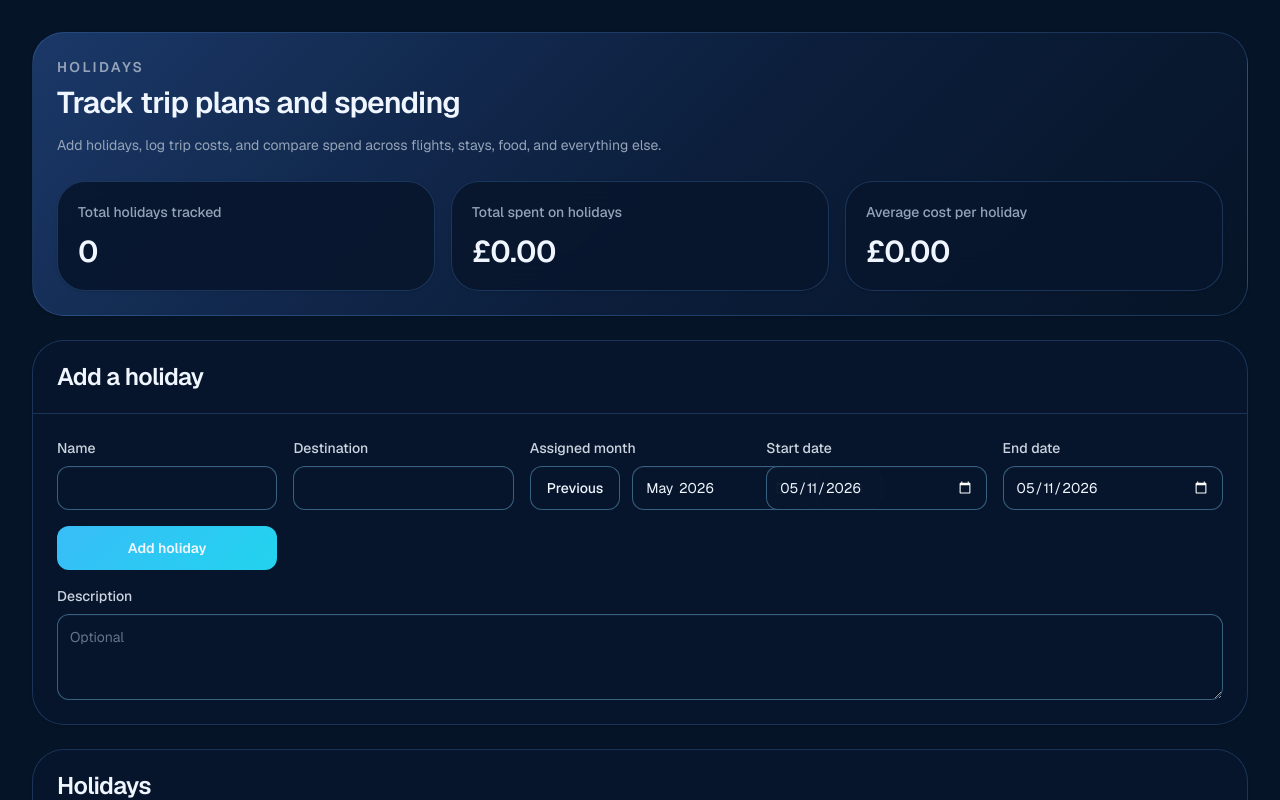
Test: [Component] holidays page › should create a holiday and append it to the list when the form is valid
Step 1. Type " Rome Escape " into the field labelled "Name" → [167, 488], box [57,466,277,510]
Step 2. Type " Rome " into the field labelled "Destination" → [404, 488], box [293,466,514,510]
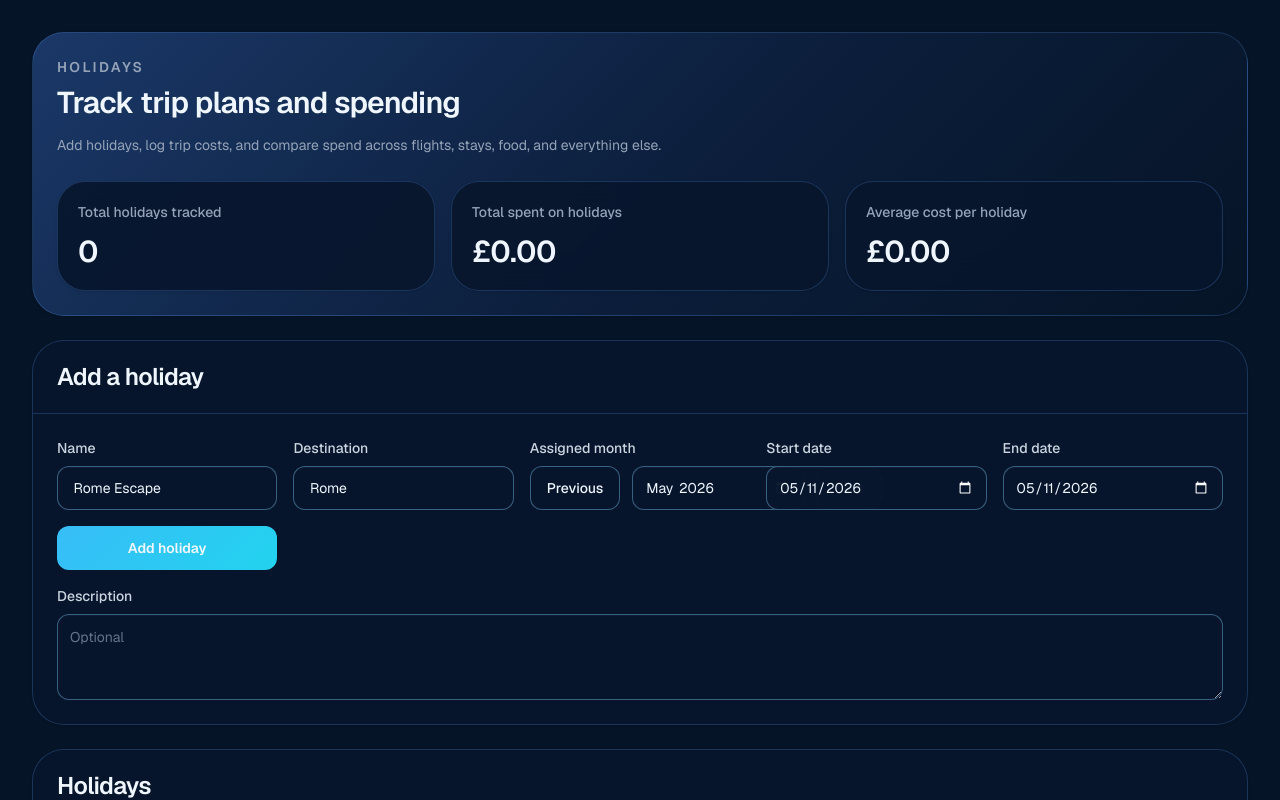
Step 3. Replace the text in the field labelled "Assigned month" with "2026-04" → [718, 488], box [632,466,804,510]
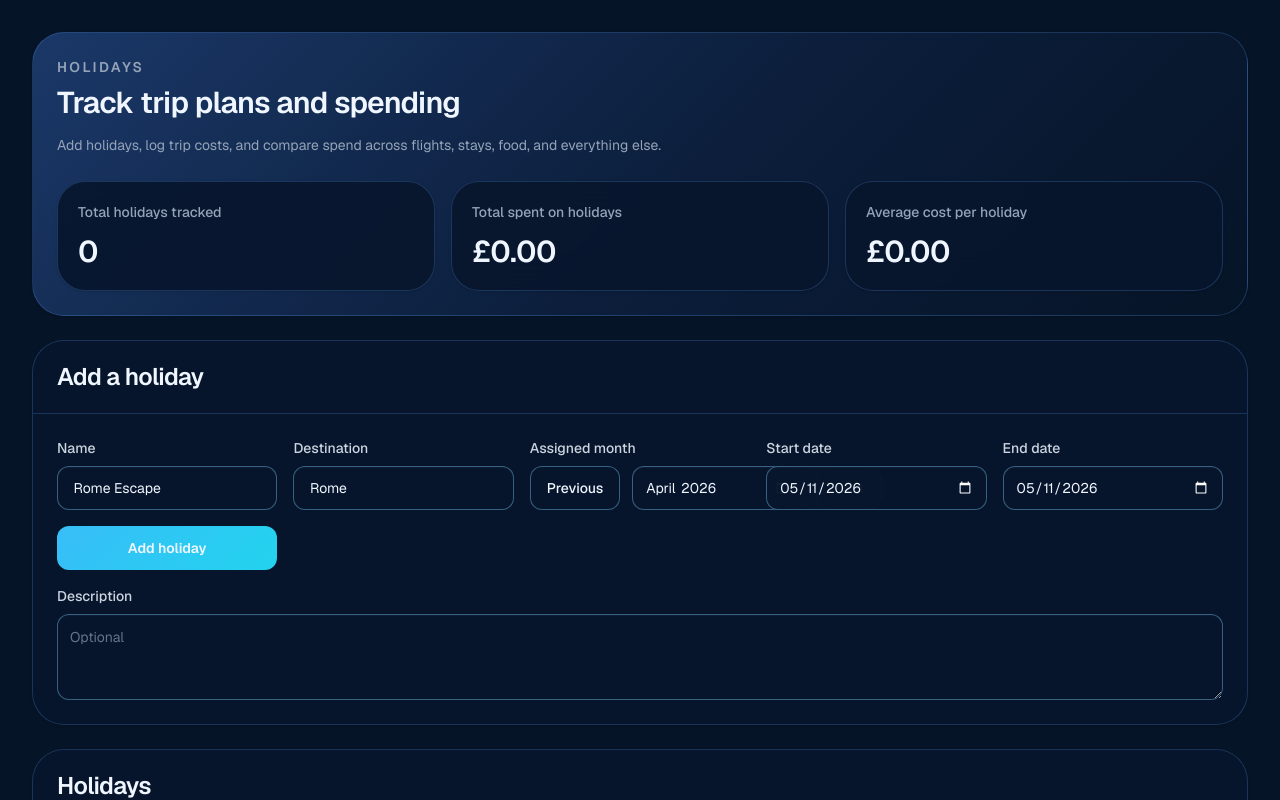
Step 4. Type "2026-04-10" into the date field labelled "Start date" → [876, 488], box [766,466,987,510]
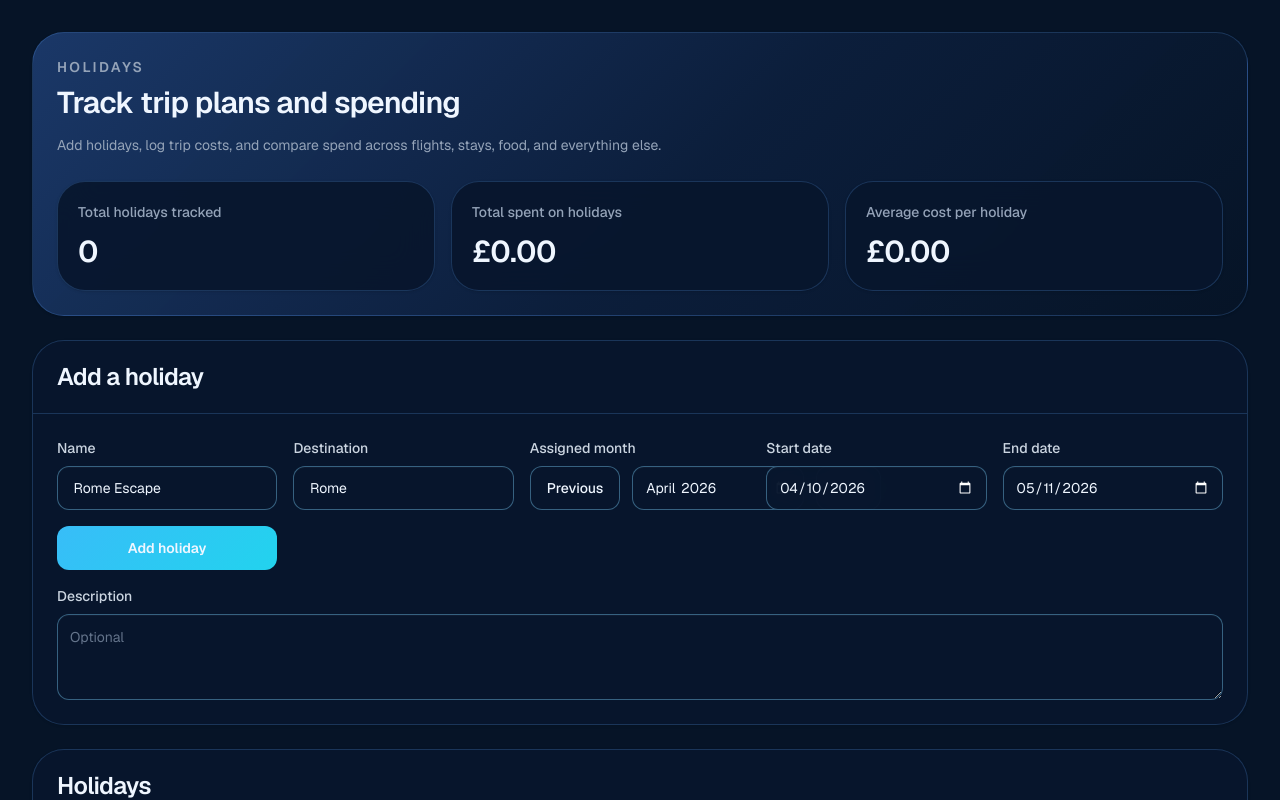
Step 5. Type "2026-04-15" into the date field labelled "End date" → [1113, 488], box [1003,466,1223,510]
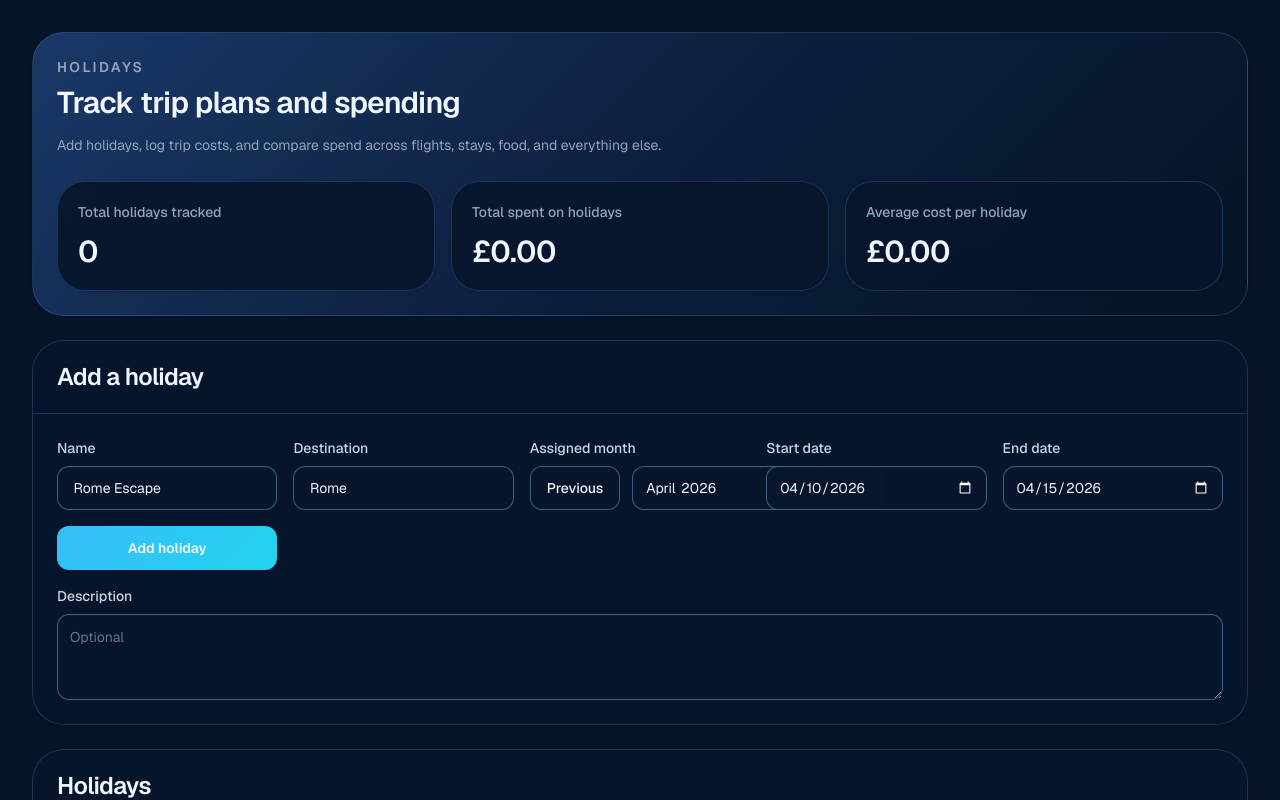
Step 6. Type " City break " into the text box labelled "Description" → [640, 657], box [57,614,1223,700]
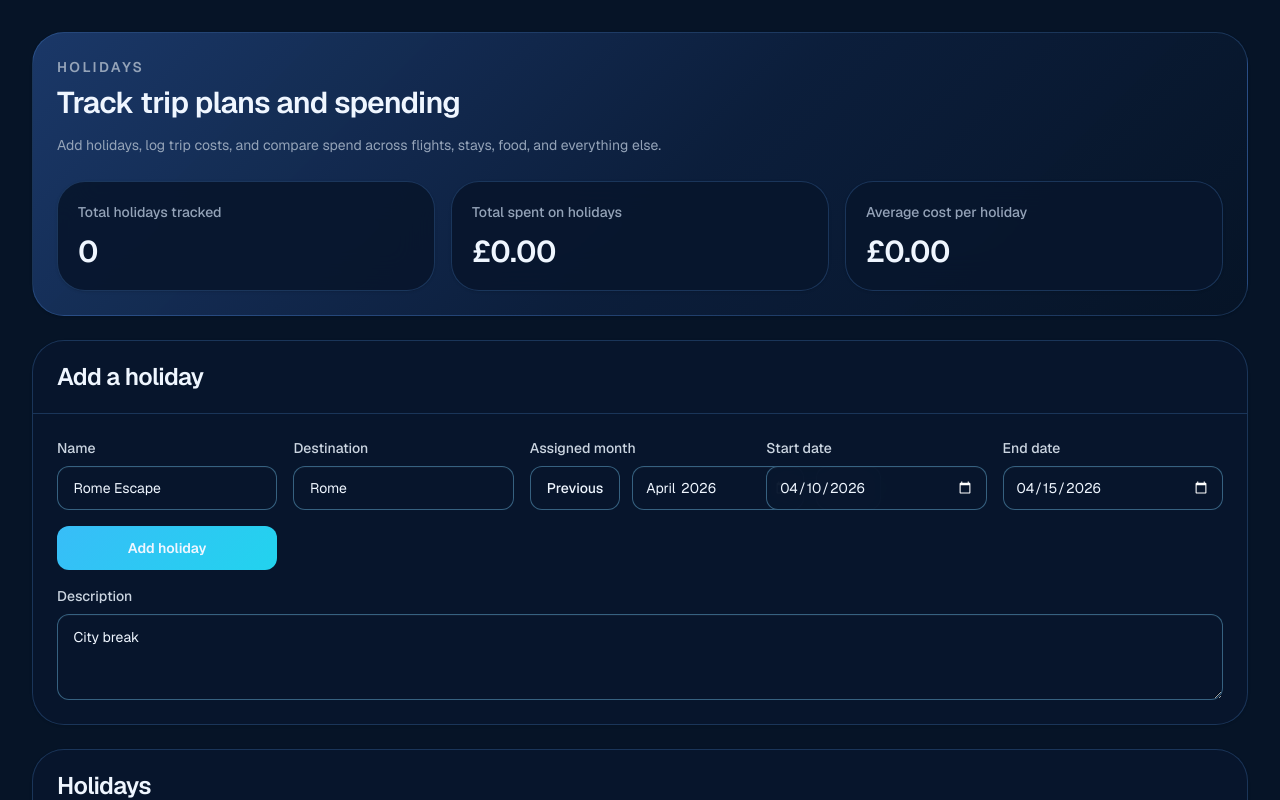
Step 7. Click the button "Add holiday" → [167, 548], box [57,526,277,570]
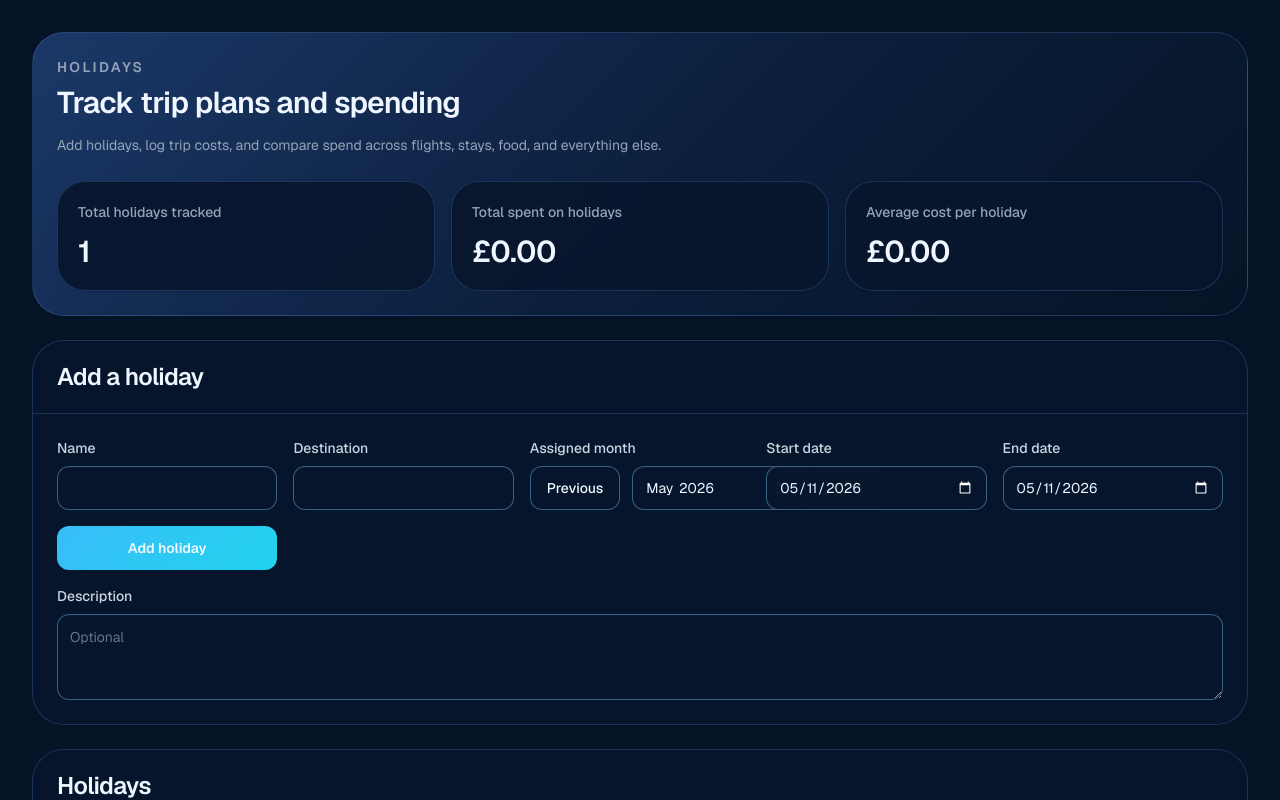
Expected: the field labelled "Name" is empty, [57,466,277,510]
Expected: the field labelled "Destination" is empty, [293,466,514,510]
Expected: the field labelled "Assigned month" holds "2026-05", [632,466,804,510]
